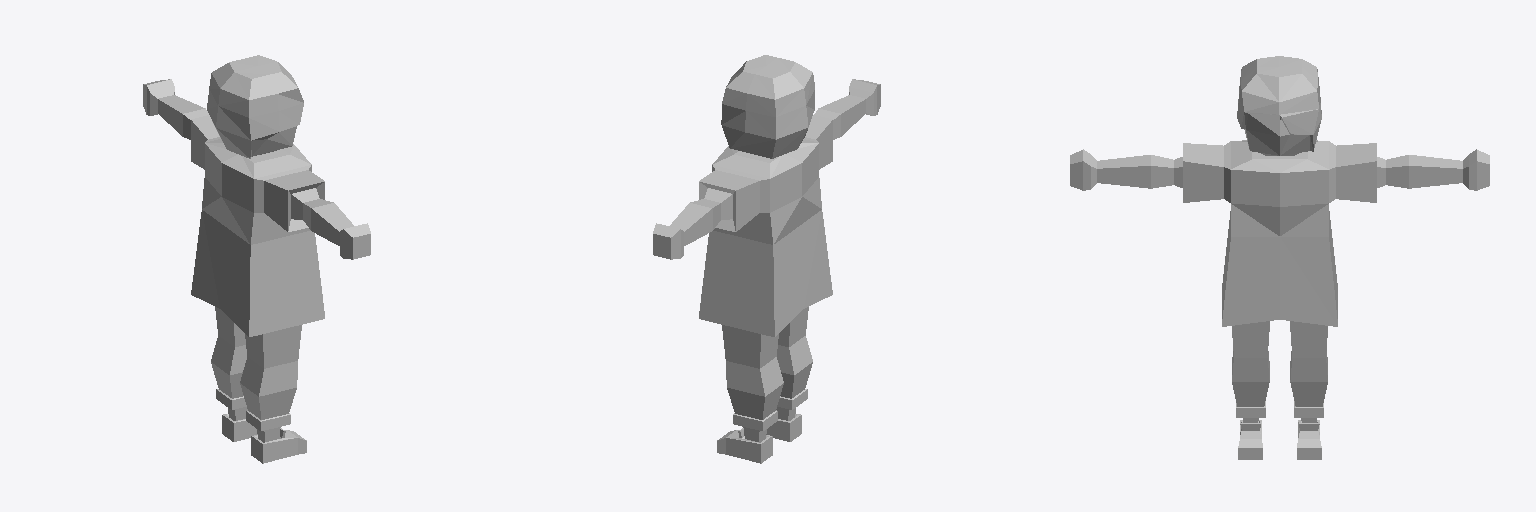
File: Nai.obj
3 views of the same model, side by side, from view 1: azimuth 30°, elevation 25°; view 2: azimuth 150°, elevation 25°; view 3: azimuth 270°, elevation 25° (orthographic).
Parts seen in each view (by area): view 1: Nai; view 2: Nai; view 3: Nai.
Boxes of the visible parts, x1,y1,x2,y2 form: Nai: [143, 55, 370, 463]; Nai: [653, 55, 880, 463]; Nai: [1070, 56, 1489, 459].
Size of the model in its own units: 1.09 by 4.9 by 4.91.